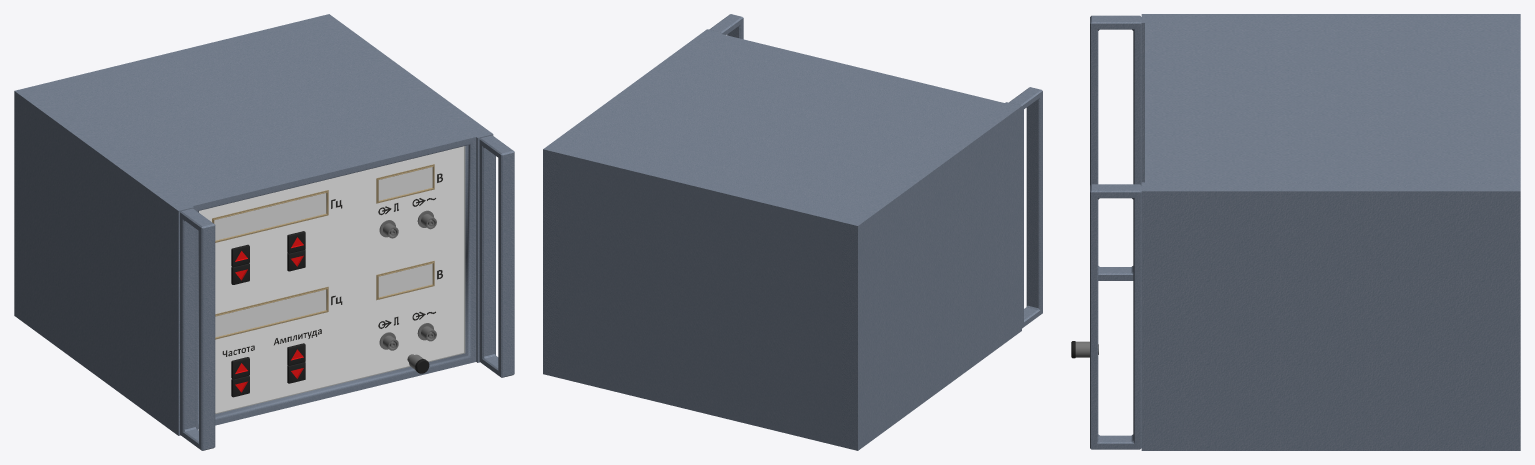
File: generator_sygnals.fbx
3 renders of one model, left to right at view 1: azimuth 30°, elevation 25°; view 2: azimuth 150°, elevation 25°; view 3: azimuth 270°, elevation 25°, orthographic. The views are drawn at different scales.
Visible parts, largest first — view 1: Box004, экран, экран002, экран001, экран003, Box004.001; view 2: Box004; view 3: Box004.
Boxes of the visible parts, x1,y1,x2,y2 form: Box004: (14, 14, 514, 450); экран: (214, 193, 326, 240); экран002: (215, 289, 326, 337); экран001: (378, 167, 432, 200); экран003: (378, 263, 432, 297); Box004.001: (379, 210, 436, 350); Box004: (543, 14, 1042, 450); Box004: (1090, 14, 1520, 450).
Bounding box in the file's own units: 45.8 × 31.25 × 49.01.
